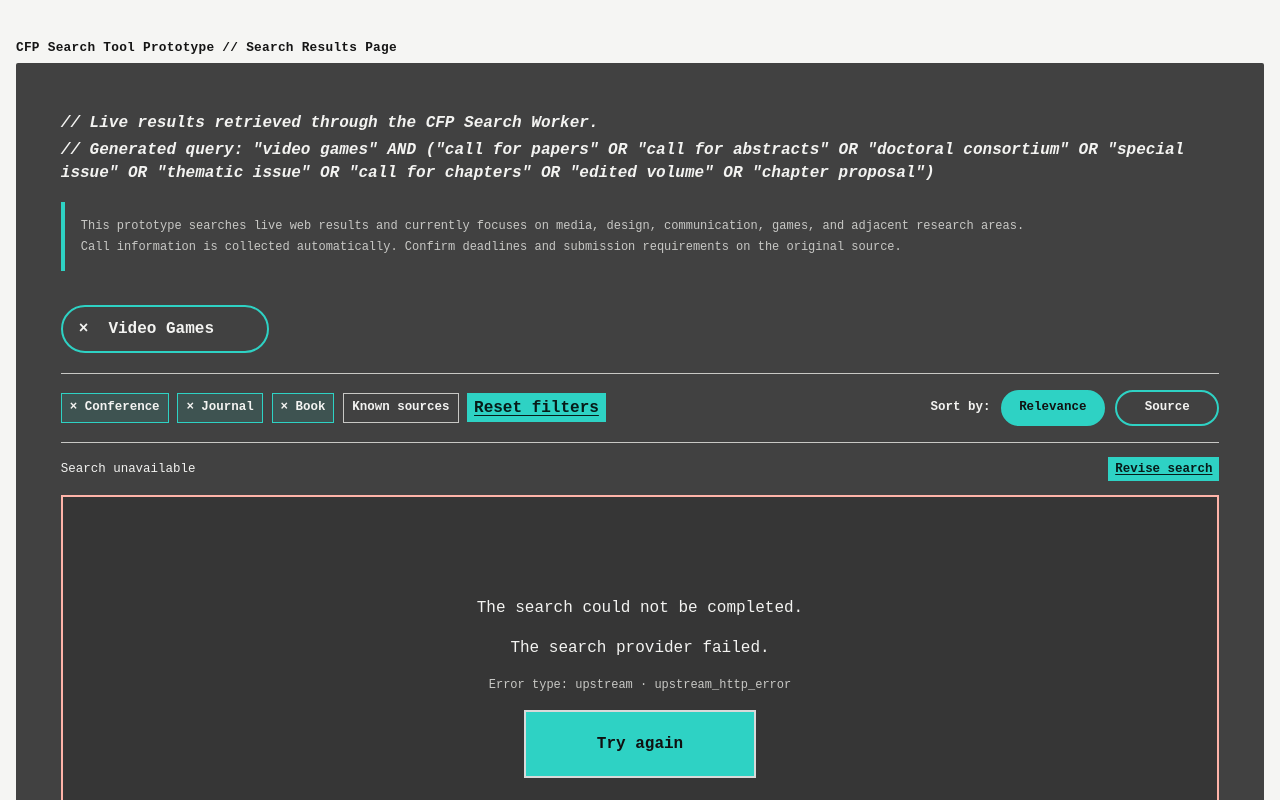
Test: ResultsPage live-search states › retries the request after an upstream failure
Click the button "Try again". click: [640, 744]
box: [524,710,756,778]
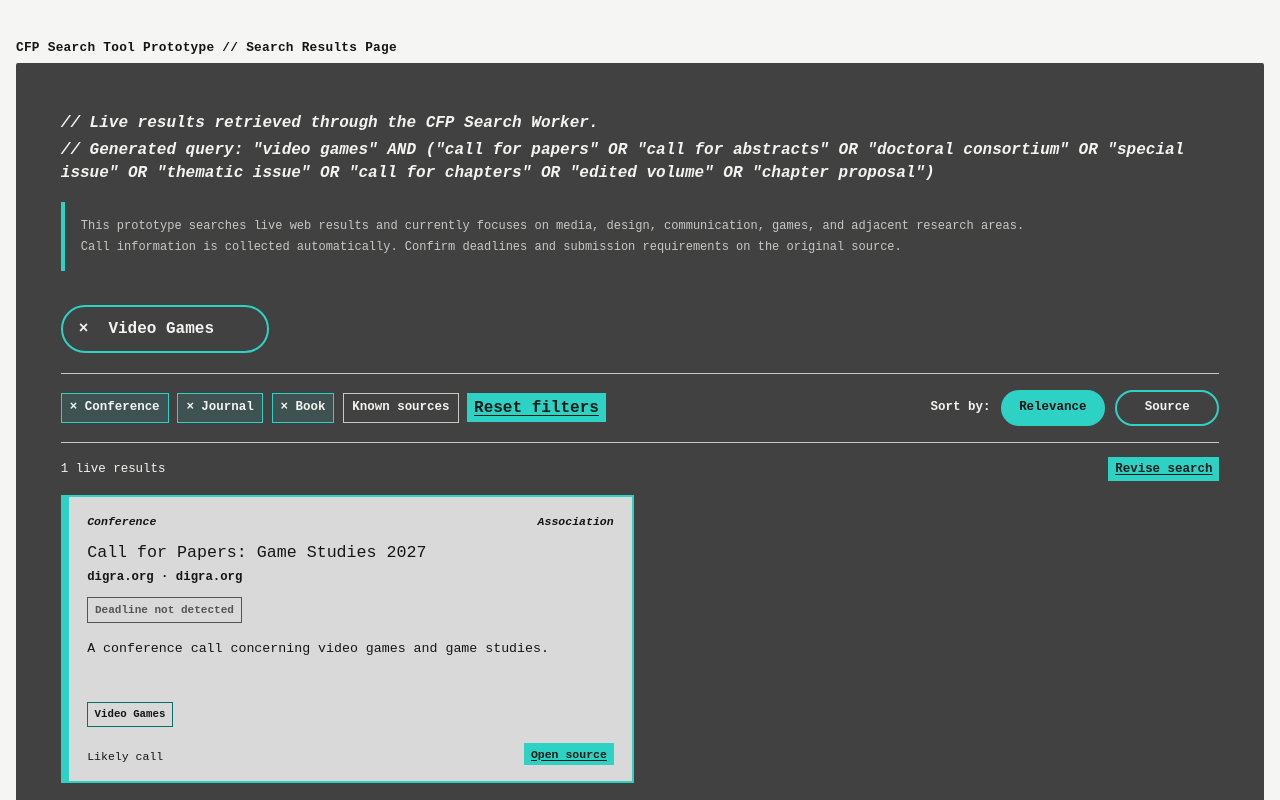
Check: the heading "Call for Papers: Game Studies 2027" is shown, box [87,543,426,562]
